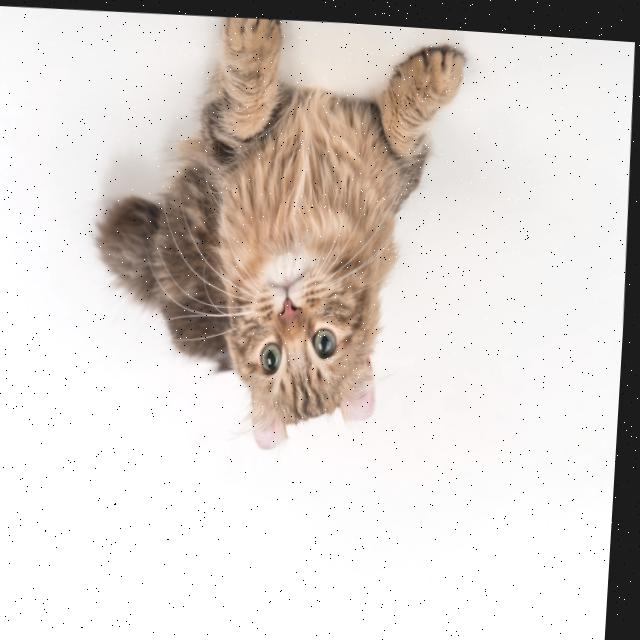American Curl: (77, 5, 477, 463)
